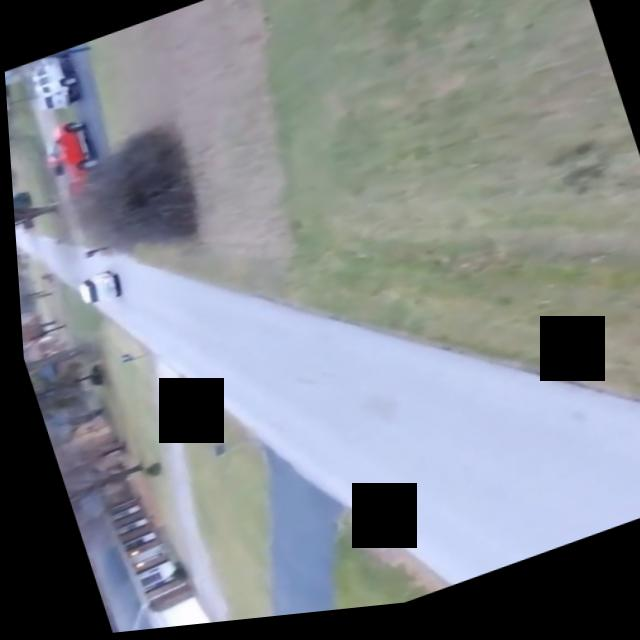Vehicle: (35, 113, 107, 208), (27, 48, 81, 113), (61, 264, 123, 317)
